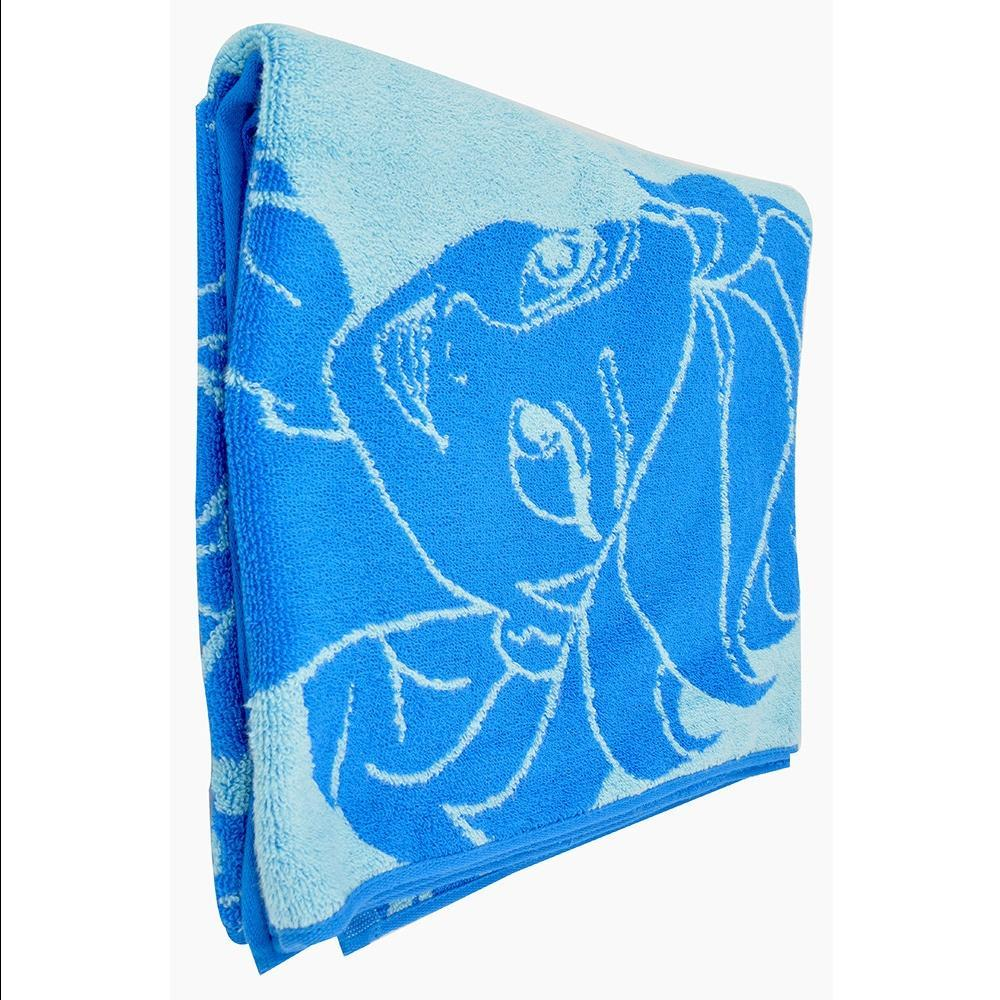towel: (167, 45, 847, 910)
